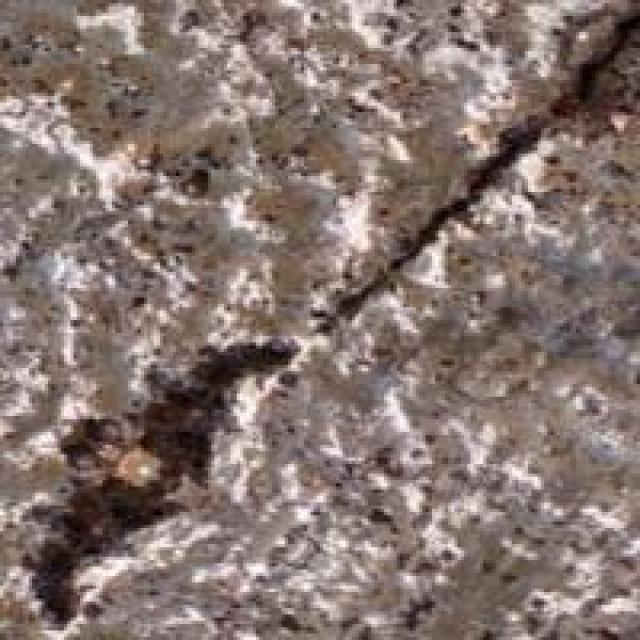Crack: (22, 29, 637, 592)
